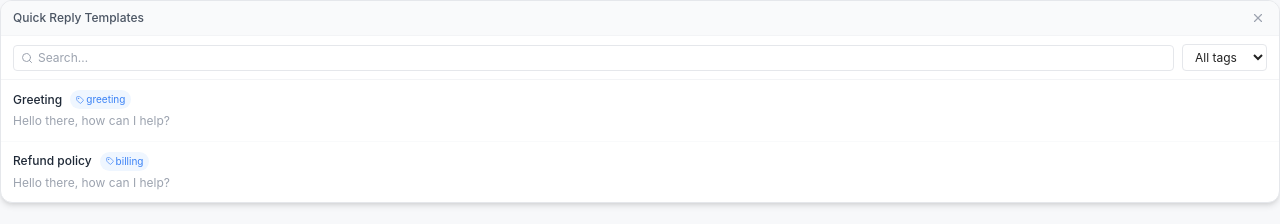
Scenario: TemplatePicker › filters by tag using the tag select
The image size is (1280, 224).
Expected: the text "Greeting" is shown, [13, 92, 62, 108]
Select "billing" in the dropdown showing "All tags": (1224, 58) [1182, 44, 1267, 71]
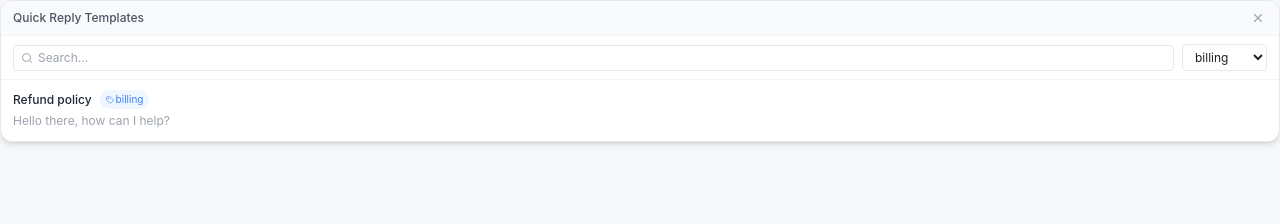
Expected: the text "Refund policy" is shown, [13, 92, 92, 108]
Now the button "Greeting" is gone
